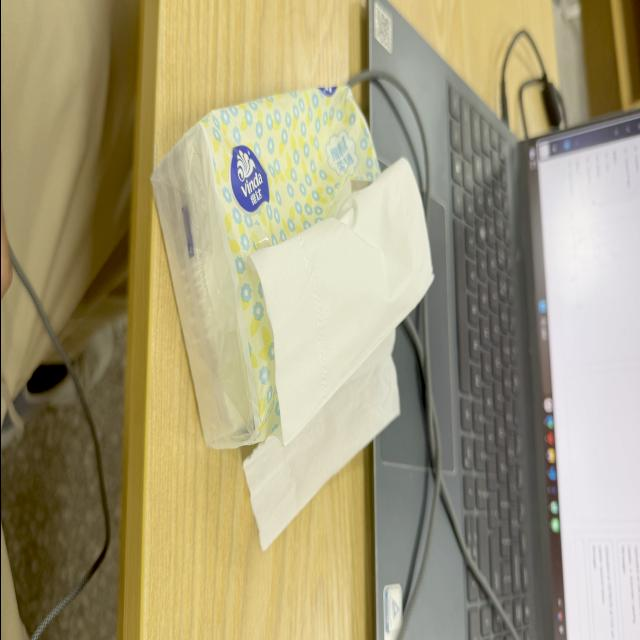tissue: (152, 88, 377, 448), (250, 159, 432, 444), (243, 333, 398, 550)
